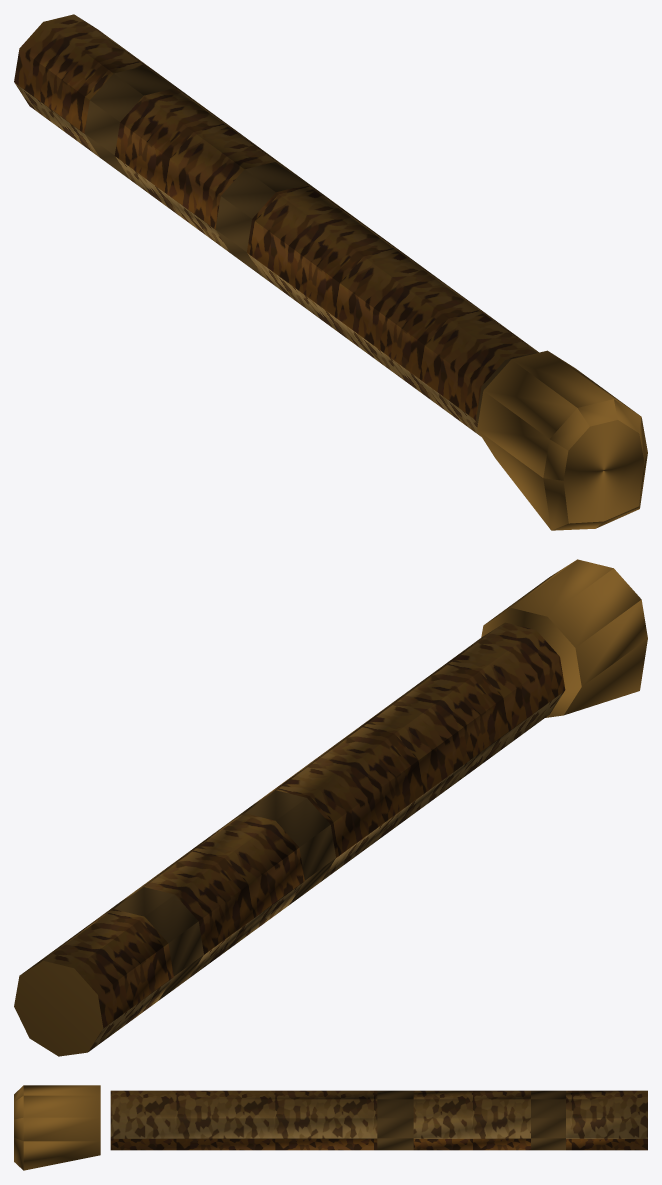
Rendered from RodHandle.fbx.
The picture shows the model from 3 angles, top to bottom: view 1: azimuth 30°, elevation 25°; view 2: azimuth 150°, elevation 25°; view 3: azimuth 270°, elevation 25°; orthographic projection. The views are drawn at different scales.
Visible parts, largest first — view 1: Handle; view 2: Handle; view 3: Handle.
Boxes of the visible parts, <box> form: Handle: <box>14,14,647,530</box>; Handle: <box>14,559,647,1056</box>; Handle: <box>14,1085,647,1170</box>.
Bounding box in the file's own units: 4.56 × 5.22 × 41.16.
Materials: 3 (1 with a texture image).
